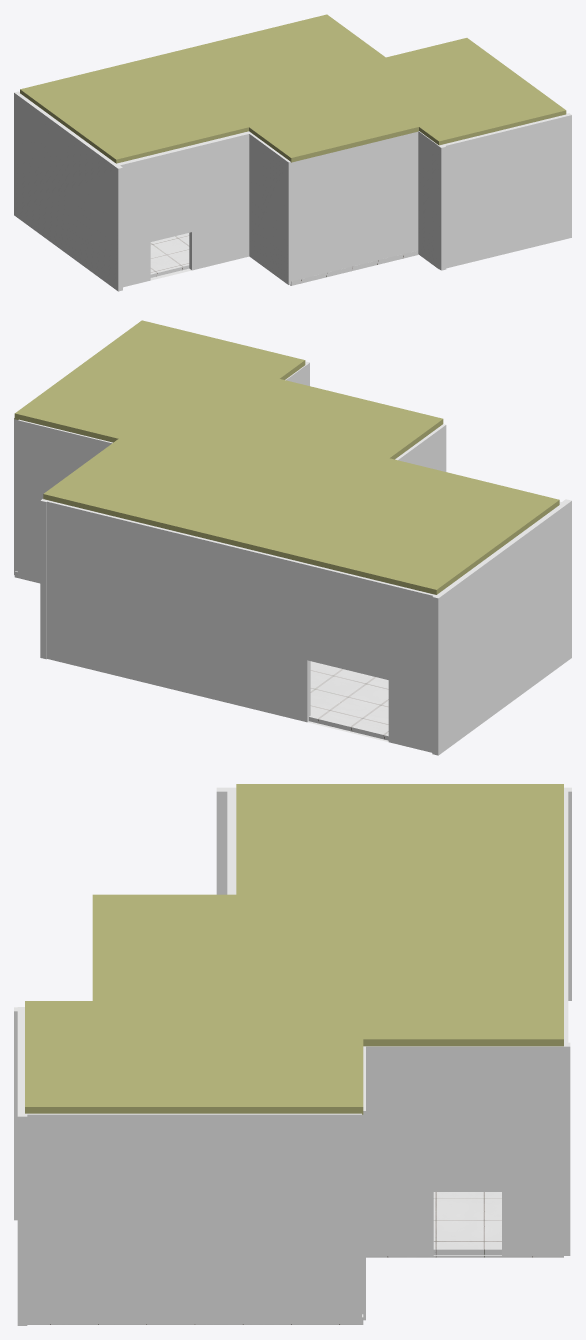
Rendered from Interior shop 1.fbx.
3 views of the same model, one above another, from view 1: azimuth 30°, elevation 25°; view 2: azimuth 150°, elevation 25°; view 3: azimuth 270°, elevation 25° (orthographic). The views are drawn at different scales.
Visible parts, largest first — view 1: pCube12, pCube6, pCube10, pCube9, pCube2, pCube5, pCube11, pCube1; view 2: pCube12, pCube8, pCube2, pCube7, pCube1, pCube5, pCube3, pCube4; view 3: pCube12, pCube4, pCube3, pCube1, pCube6, pCube2, pCube8, pCube9, pCube7, pCube11.
Part boxes in pixels (<box>): pCube12: <box>20,14,566,163</box>; pCube6: <box>437,113,571,269</box>; pCube10: <box>293,132,418,280</box>; pCube9: <box>117,131,251,287</box>; pCube2: <box>14,91,122,291</box>; pCube5: <box>249,133,292,284</box>; pCube11: <box>418,131,446,270</box>; pCube1: <box>150,233,438,285</box>; pCube12: <box>14,320,559,594</box>; pCube8: <box>44,499,439,752</box>; pCube2: <box>432,499,571,755</box>; pCube7: <box>18,419,112,582</box>; pCube1: <box>14,571,388,740</box>; pCube5: <box>395,424,446,471</box>; pCube3: <box>40,499,46,659</box>; pCube4: <box>14,417,17,574</box>; pCube12: <box>25,784,563,1114</box>; pCube4: <box>27,1113,361,1323</box>; pCube3: <box>366,1042,570,1255</box>; pCube1: <box>27,1192,563,1324</box>; pCube6: <box>17,1007,27,1325</box>; pCube2: <box>216,787,571,1000</box>; pCube8: <box>564,791,568,1044</box>; pCube9: <box>227,791,236,894</box>; pCube7: <box>362,1046,365,1320</box>; pCube11: <box>14,1007,24,1220</box>.
Size of the model in its own units: 329 by 102 by 236.
